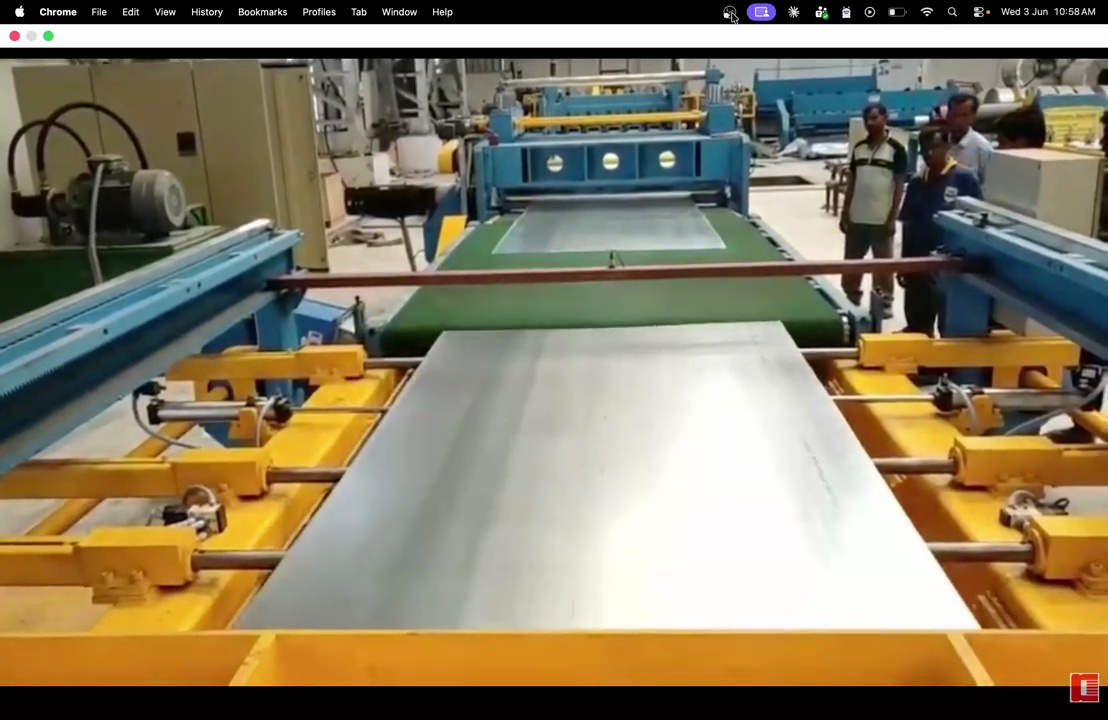steel plate: (237, 323, 976, 629), (494, 198, 724, 253)
